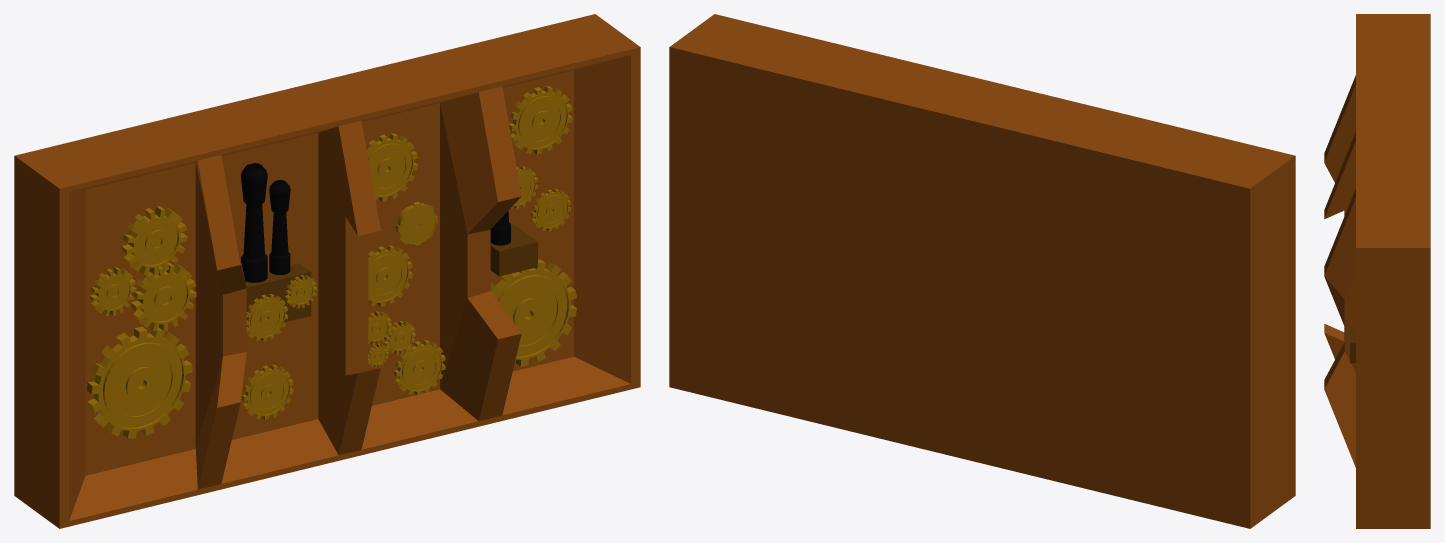
File: BackgroundWall.glb
3 renders of one model, left to right at view 1: azimuth 30°, elevation 25°; view 2: azimuth 150°, elevation 25°; view 3: azimuth 270°, elevation 25°, orthographic. The views are drawn at different scales.
Parts seen in each view (by area): view 1: BackgroundWall; view 2: BackgroundWall; view 3: BackgroundWall.
Boxes of the visible parts, x1=… form: BackgroundWall: x1=14, y1=14, x2=640, y2=528; BackgroundWall: x1=669, y1=14, x2=1295, y2=528; BackgroundWall: x1=1324, y1=14, x2=1430, y2=528.
Size of the model in its own units: 21.77 by 12.19 by 4.19.
